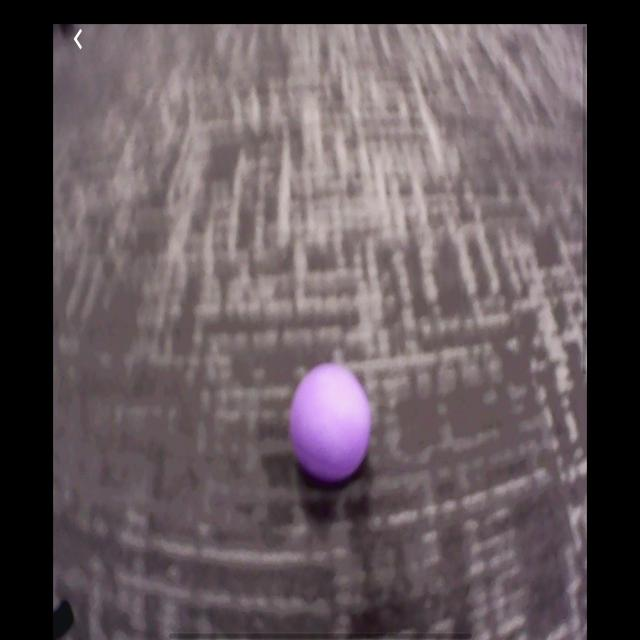ball: (293, 365, 370, 478)
